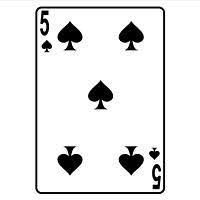five of spades: (36, 6, 165, 194)
